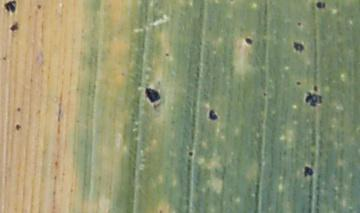tarspot: (304, 91, 323, 108), (144, 86, 161, 104), (3, 1, 17, 15), (292, 40, 305, 53), (207, 108, 219, 121), (9, 22, 21, 32), (303, 166, 313, 177), (315, 1, 327, 10), (243, 38, 254, 46), (185, 150, 194, 157), (312, 84, 319, 92), (294, 80, 303, 86), (15, 106, 22, 113), (1, 55, 8, 62), (15, 124, 21, 131), (295, 21, 302, 27), (36, 4, 42, 10), (164, 52, 170, 58)
